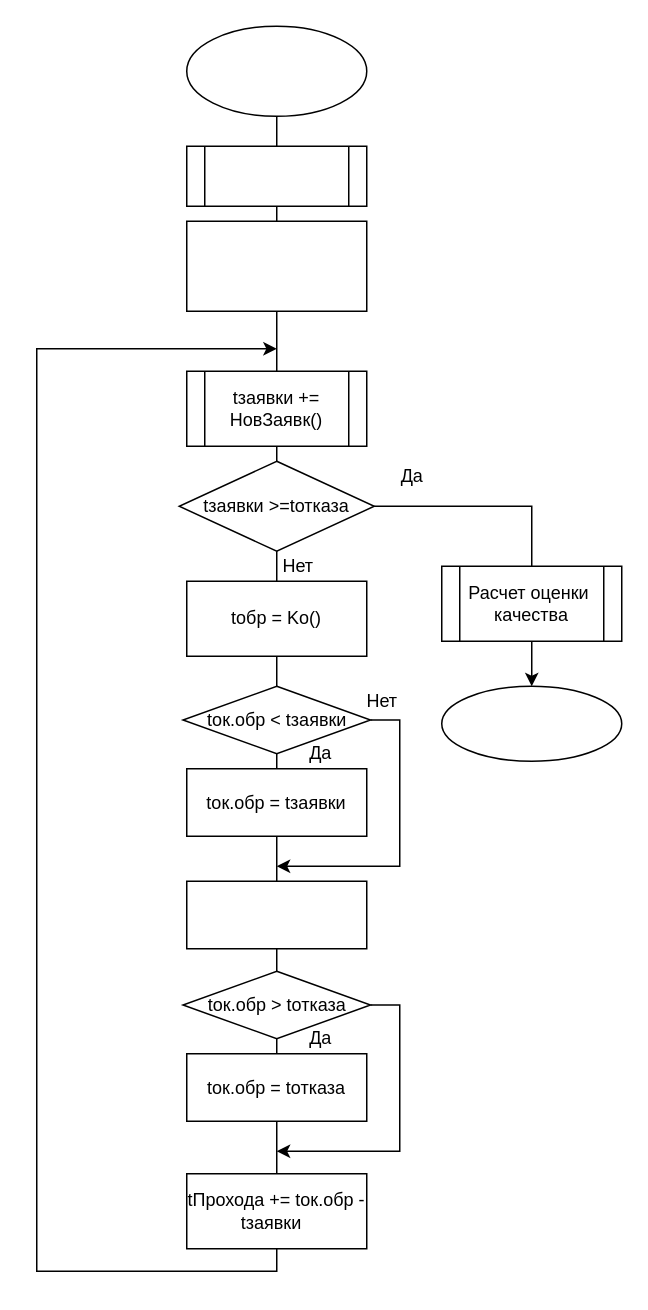
Image size: 648x1310. Some labels were removed from this diagram. The centre of each missing label's shape, as x and y in pixels:
tзаявки = 0 tок.обр = 0 tПрохода = 0: the point at 276,265
tок.обр += tобр: the point at 276,914
tотказа: the point at 276,175
Конец: the point at 531,723
Начало: the point at 276,70
